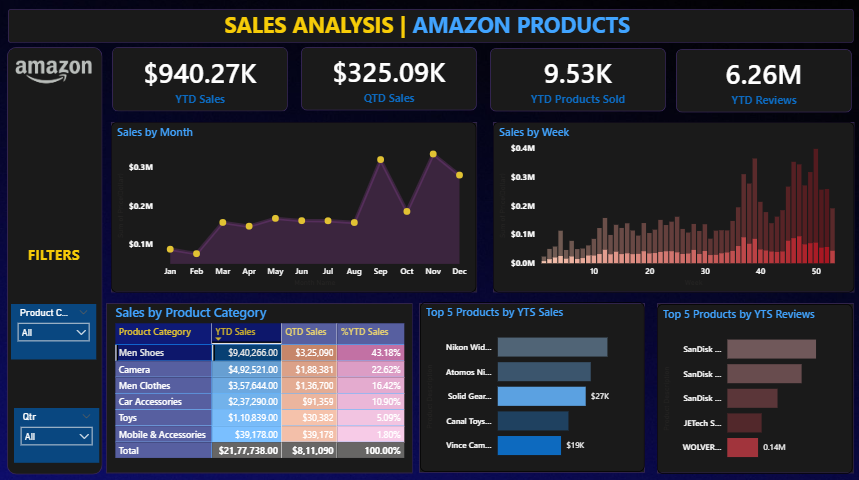

The page's visual inventory and layout, read from the dashboard file:
{"tool":"powerbi","page":{"name":"Page 1","canvas":[1280,720],"ordinal":0},"visuals":[{"type":"shape","box":[14.3,17.9,1250,50],"z":0},{"type":"shape","box":[169,73.9,260,95.4],"z":0,"group":"g1"},{"type":"textbox","box":[329.3,13.8,625.9,56.9],"z":1000},{"type":"card","fields":{"Values":["Amazon_Data.YTD Sales"]},"box":[169,73.9,260,95.4],"z":1000,"group":"g1"},{"type":"shape","box":[13.2,73.5,141.1,631.8],"z":2000},{"type":"card","fields":{"Values":["Amazon_Data.YTD Sales"]},"box":[492.1,75.5,260,95.4],"z":2000,"group":"g1"},{"type":"group","id":"g1","title":"Group 1","box":[169,72.4,1093.1,98.3],"z":3000},{"type":"shape","box":[448.5,73.9,260,93.8],"z":3000,"group":"g1"},{"type":"shape","box":[728,75.5,260,93.8],"z":4000,"group":"g1"},{"type":"shape","box":[167.2,184.5,541.4,251.7],"z":4000},{"type":"card","fields":{"Values":["Amazon_Data.QTD Sales"]},"box":[449,72.4,260,95.4],"z":5000,"group":"g1"},{"type":"areaChart","title":"Sales by Month ","fields":{"Category":["Date Table.Month Name"],"Y":["Sum(Amazon_Data.Price(Dollar))"]},"box":[167.2,184.5,539.7,251.7],"z":5000},{"type":"shape","box":[1002.8,77,260,93.8],"z":6000,"group":"g1"},{"type":"shape","box":[731,184.5,534.5,251.7],"z":6000},{"type":"card","fields":{"Values":["Amazon_Data.YTD Products Sold"]},"box":[727.5,73.9,260,95.4],"z":7000,"group":"g1"},{"type":"columnChart","title":"Sales by Week","fields":{"Category":["Date Table.Week"],"Y":["Sum(Amazon_Data.Price(Dollar))"]},"box":[731,184.5,534.5,251.7],"z":7000},{"type":"card","fields":{"Values":["Amazon_Data.YTD Reviews"]},"box":[1002.8,75.5,260,95.4],"z":8000,"group":"g1"},{"type":"shape","box":[160.3,451.7,453.4,251.7],"z":8000},{"type":"shape","box":[621.5,452.3,333.8,250.8],"z":9000},{"type":"pivotTable","title":"Sales by Product Category","fields":{"Rows":["Amazon_Data.Product Category"],"Values":["Amazon_Data.YTD Sales1","Amazon_Data.QTD Sales","Amazon_Data.YTD Sales"]},"box":[169.2,452.3,444.6,252.3],"z":10000},{"type":"shape","box":[974.1,451.7,291.4,251.7],"z":11000},{"type":"clusteredBarChart","title":"Top 5 Products by YTS Sales","fields":{"Category":["Amazon_Data.Product Description"],"Y":["Amazon_Data.YTD Sales"]},"box":[623.1,450.8,332.3,250.8],"z":12000},{"type":"clusteredBarChart","title":"Top 5 Products by YTS Reviews","fields":{"Category":["Amazon_Data.Product Description"],"Y":["Amazon_Data.YTD Reviews"]},"box":[973.8,453.8,289.2,250.8],"z":13000},{"type":"slicer","fields":{"Values":["Amazon_Data.Product Category"]},"box":[20.6,307.1,126.4,82.3],"z":14000},{"type":"slicer","fields":{"Values":["Date Table.Qtr"]},"box":[20.6,424.7,126.4,80.8],"z":15000},{"type":"image","box":[19.1,67.6,129.3,91.1],"z":16000},{"type":"textbox","box":[23.5,229.2,117.6,57.3],"z":17000}]}

Visuals, with their boxes in screenshot pixels (x1, y1, x2, y2), scaled from the page's 1280x720 canvas onto the 859x480 screenshot:
shape: x1=10 y1=12 x2=848 y2=45
shape: x1=113 y1=49 x2=288 y2=113
textbox: x1=221 y1=9 x2=641 y2=47
card - Amazon_Data.YTD Sales: x1=113 y1=49 x2=288 y2=113
shape: x1=9 y1=49 x2=104 y2=470
card - Amazon_Data.YTD Sales: x1=330 y1=50 x2=505 y2=114
"Group 1" group: x1=113 y1=48 x2=847 y2=114
shape: x1=301 y1=49 x2=475 y2=112
shape: x1=489 y1=50 x2=663 y2=113
shape: x1=112 y1=123 x2=476 y2=291
card - Amazon_Data.QTD Sales: x1=301 y1=48 x2=476 y2=112
"Sales by Month " areaChart: x1=112 y1=123 x2=474 y2=291
shape: x1=673 y1=51 x2=847 y2=114
shape: x1=491 y1=123 x2=849 y2=291
card - Amazon_Data.YTD Products Sold: x1=488 y1=49 x2=663 y2=113
"Sales by Week" columnChart: x1=491 y1=123 x2=849 y2=291
card - Amazon_Data.YTD Reviews: x1=673 y1=50 x2=847 y2=114
shape: x1=108 y1=301 x2=412 y2=469
shape: x1=417 y1=302 x2=641 y2=469
"Sales by Product Category" pivotTable: x1=114 y1=302 x2=412 y2=470
shape: x1=654 y1=301 x2=849 y2=469
"Top 5 Products by YTS Sales" clusteredBarChart: x1=418 y1=301 x2=641 y2=468
"Top 5 Products by YTS Reviews" clusteredBarChart: x1=654 y1=303 x2=848 y2=470
slicer - Amazon_Data.Product Category: x1=14 y1=205 x2=99 y2=260
slicer - Date Table.Qtr: x1=14 y1=283 x2=99 y2=337
image: x1=13 y1=45 x2=100 y2=106
textbox: x1=16 y1=153 x2=95 y2=191
